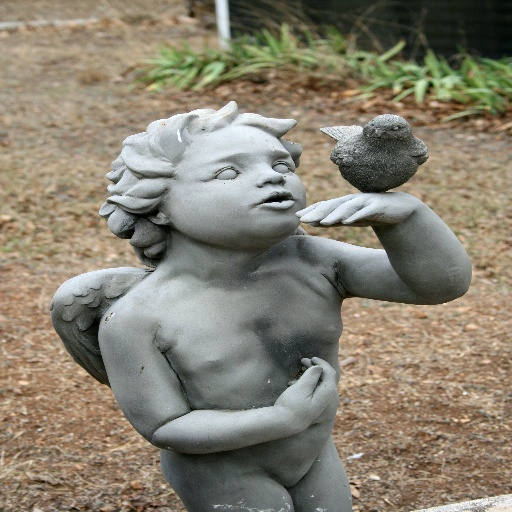hand: (272, 355, 338, 434), (295, 190, 419, 228)
